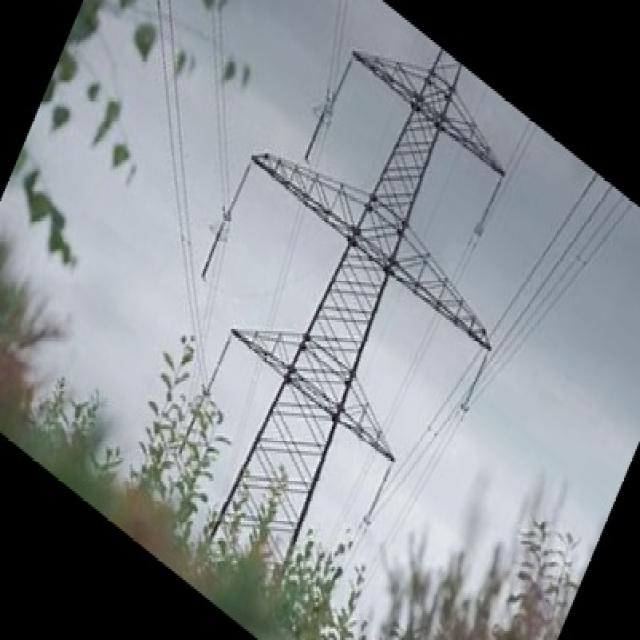utility poles: (142, 273, 442, 576)
